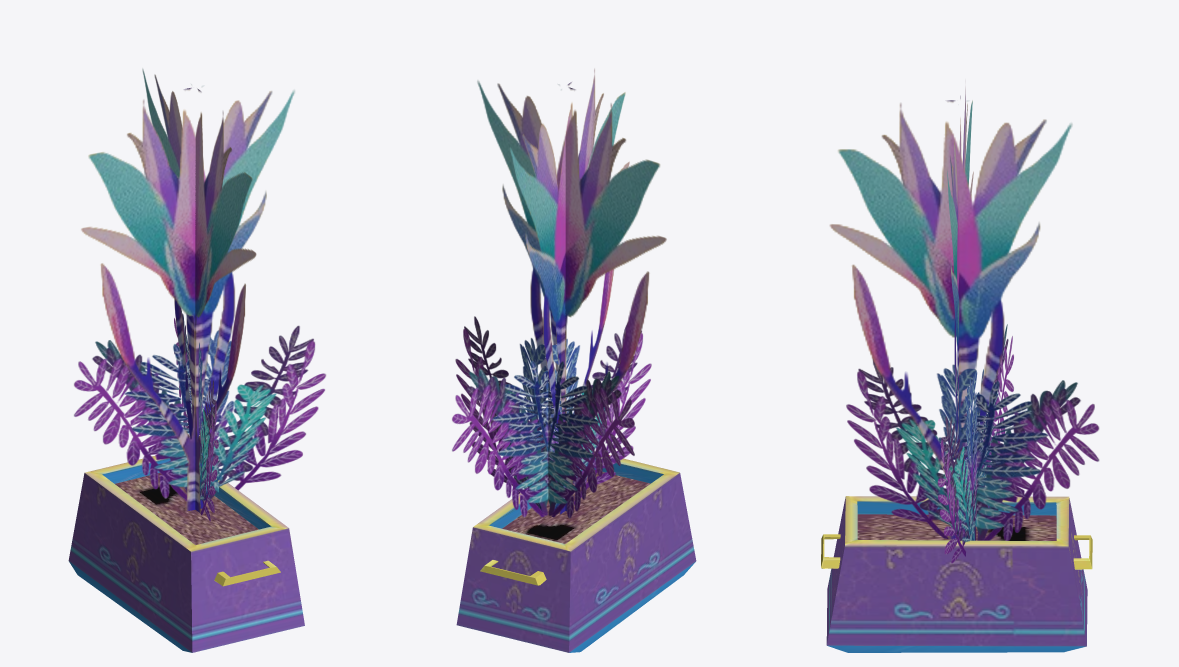
The model's file is pot-vapor-02.glb.
3 views of the same model, side by side, from view 1: azimuth 30°, elevation 25°; view 2: azimuth 150°, elevation 25°; view 3: azimuth 270°, elevation 25° (orthographic). The views are drawn at different scales.
Visible parts, largest first — view 1: Pot_Vapor_02; view 2: Pot_Vapor_02; view 3: Pot_Vapor_02.
Boxes of the visible parts, left/top/right/bottom form: Pot_Vapor_02: left=68, top=69, right=325, bottom=652; Pot_Vapor_02: left=452, top=68, right=696, bottom=652; Pot_Vapor_02: left=821, top=87, right=1099, bottom=652.
Size of the model in its own units: 2.09 by 2.99 by 2.1.
Materials: 2 (2 with a texture image).
